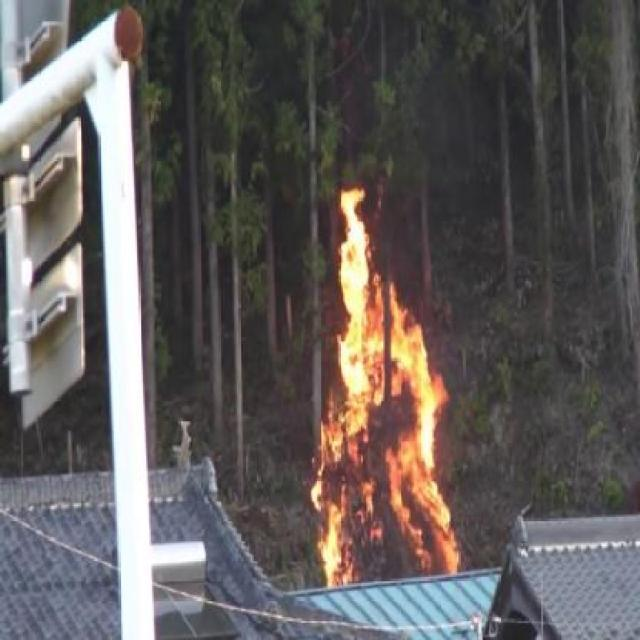Fire: (306, 177, 468, 604)
